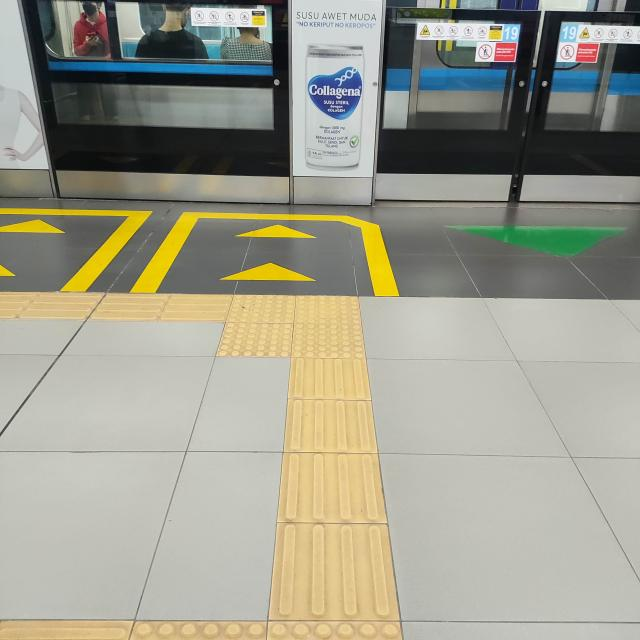kiri: (142, 281, 403, 381)
